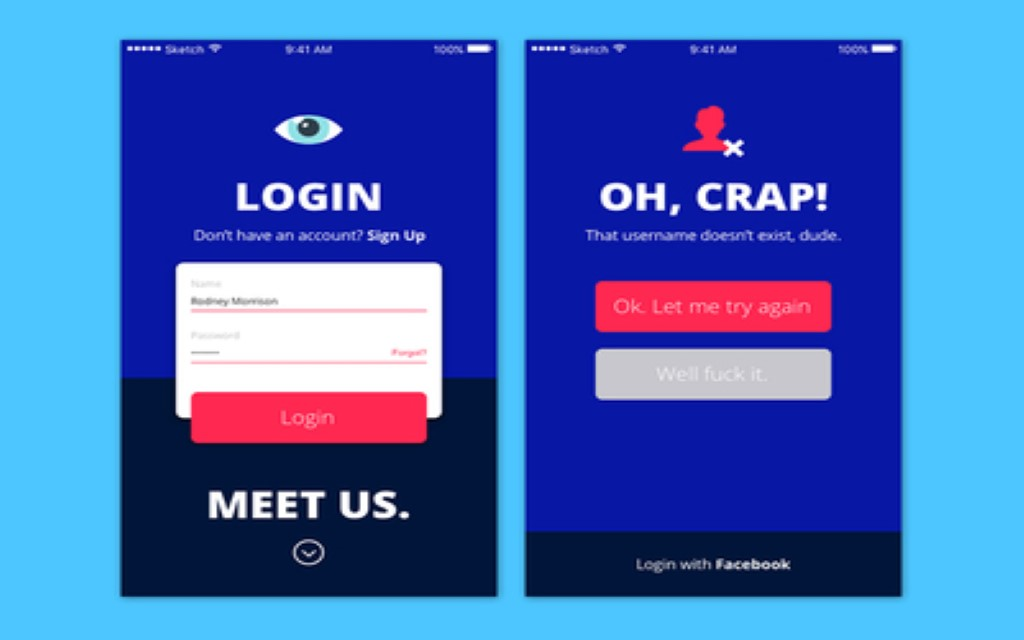button: (595, 347, 832, 399), (594, 281, 831, 332), (192, 393, 426, 444)
label_login: (276, 407, 338, 429)
textbox: (187, 323, 429, 349), (187, 272, 420, 297)
